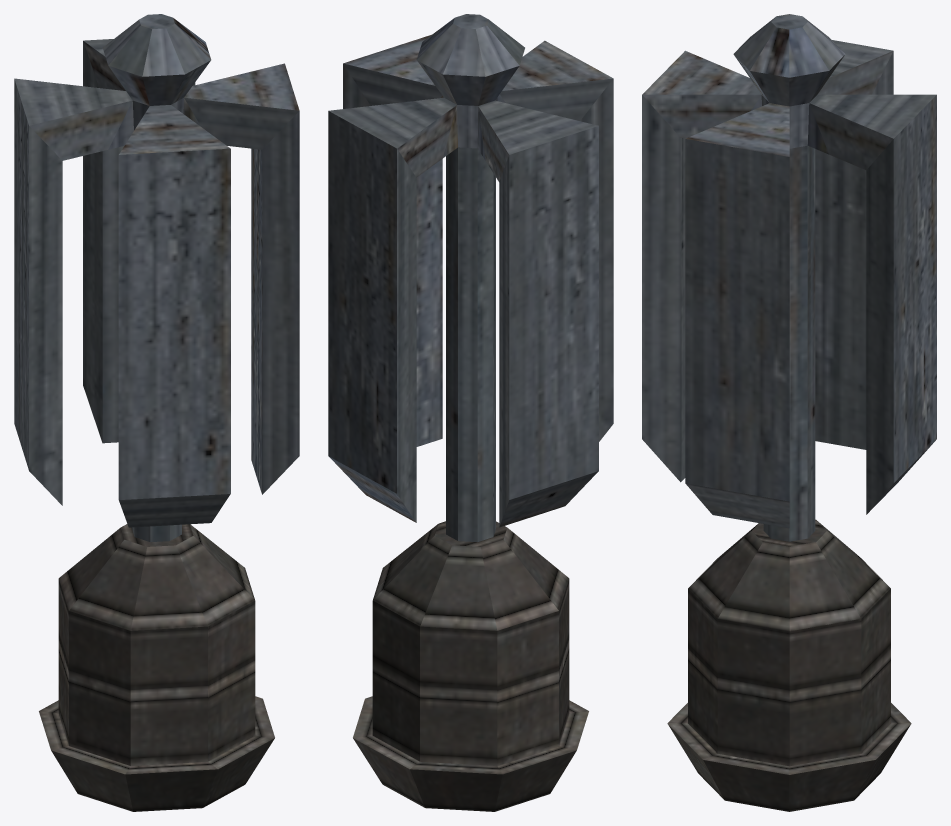
The model's file is ShippingBeacon.glb.
3 renders of one model, left to right at view 1: azimuth 30°, elevation 25°; view 2: azimuth 150°, elevation 25°; view 3: azimuth 270°, elevation 25°, orthographic.
Visible parts, largest first — view 1: Head, Base; view 2: Head, Base; view 3: Head, Base.
Part boxes in pixels (x1=…): Head: x1=14, y1=14, x2=299, y2=542; Base: x1=39, y1=524, x2=274, y2=811; Head: x1=328, y1=14, x2=613, y2=542; Base: x1=353, y1=521, x2=588, y2=811; Head: x1=642, y1=14, x2=936, y2=541; Base: x1=667, y1=519, x2=911, y2=811.
Bounding box in the file's own units: 0.1949 × 0.5484 × 0.1949.
3 materials, 3 textured.
